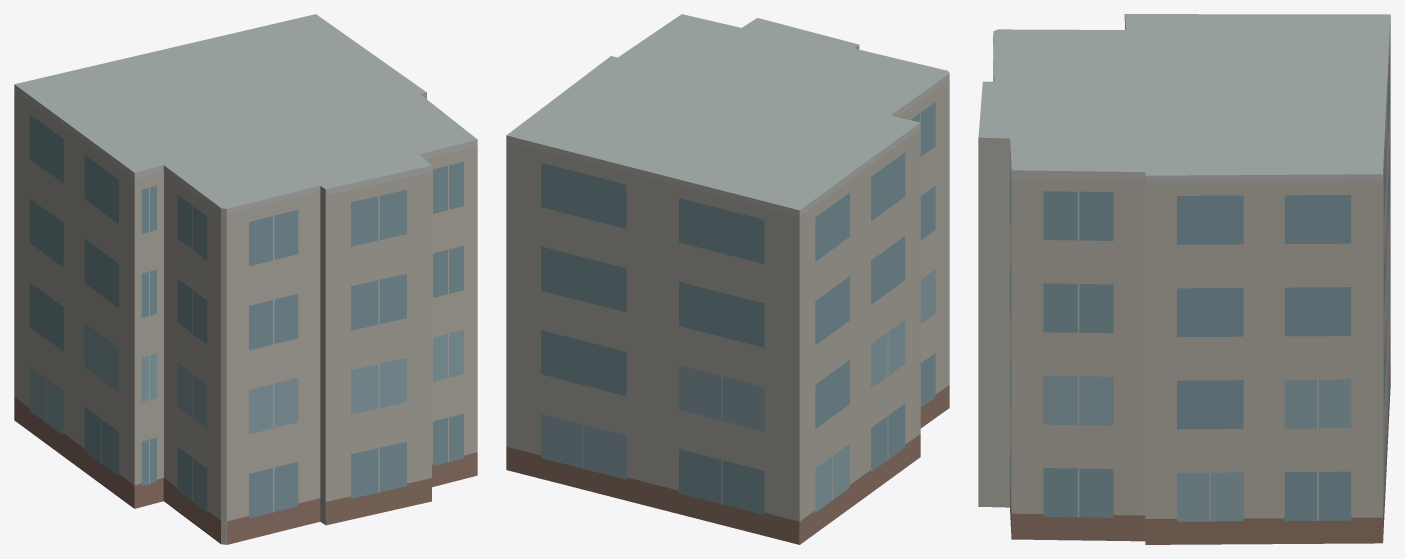
Rendered from survey-upis-32652699.glb.
3 views of the same model, side by side, from view 1: azimuth 30°, elevation 25°; view 2: azimuth 150°, elevation 25°; view 3: azimuth 270°, elevation 25° (orthographic). The views are drawn at different scales.
Parts seen in each view (by area): view 1: survey-upis-32652699.tmp; view 2: survey-upis-32652699.tmp; view 3: survey-upis-32652699.tmp.
Boxes of the visible parts, <box> form: survey-upis-32652699.tmp: <box>14,14,477,544</box>; survey-upis-32652699.tmp: <box>506,14,949,544</box>; survey-upis-32652699.tmp: <box>978,14,1390,544</box>.
Size of the model in its own units: 12.04 by 12.8 by 12.96.
